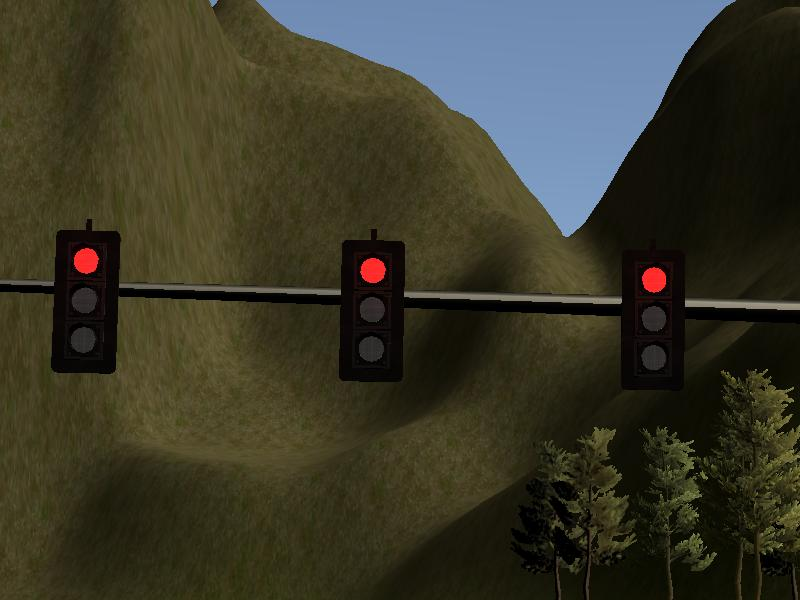red: (49, 233, 117, 373), (336, 238, 404, 378), (619, 246, 687, 386)
